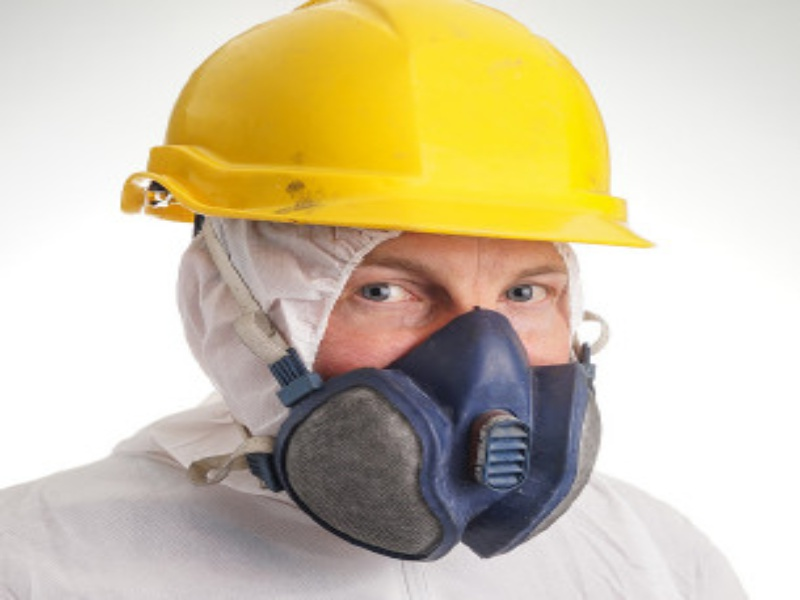mask: (235, 47, 612, 560)
